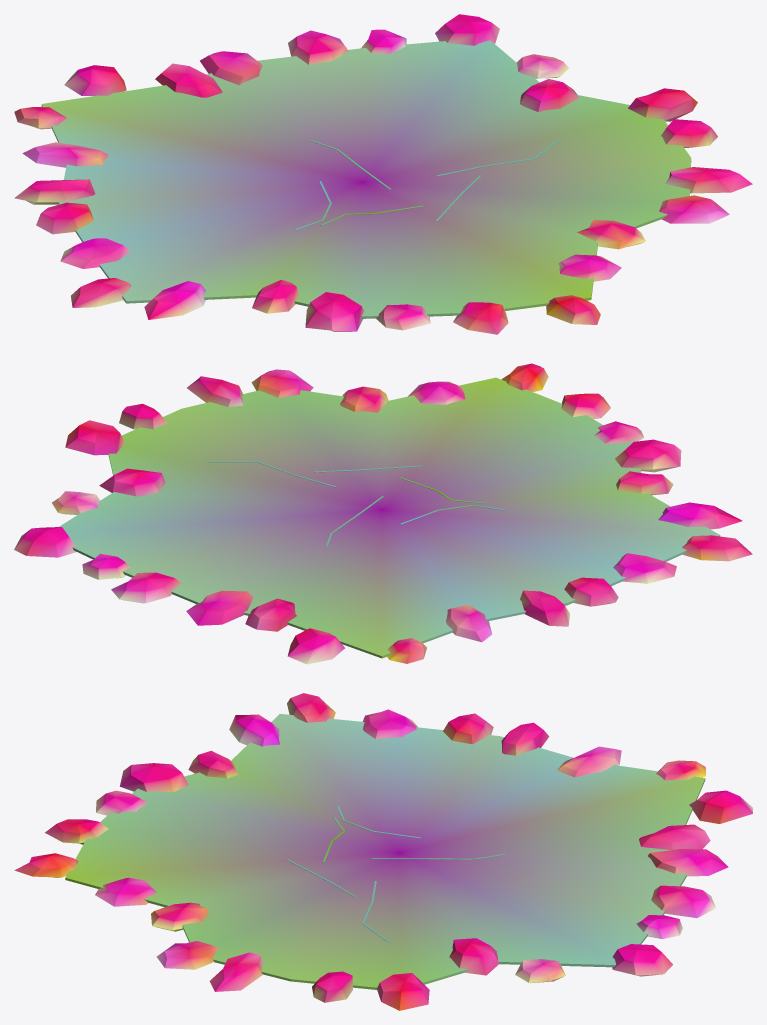
Rendered from Frozen_Lake_01.glb.
3 views of the same model, one above another, from view 1: azimuth 30°, elevation 25°; view 2: azimuth 150°, elevation 25°; view 3: azimuth 270°, elevation 25° (orthographic). The views are drawn at different scales.
Visible parts, largest first — view 1: Frozen_Lake_01; view 2: Frozen_Lake_01; view 3: Frozen_Lake_01.
Boxes of the visible parts, x1,y1,x2,y2 form: Frozen_Lake_01: [14, 14, 752, 334]; Frozen_Lake_01: [14, 363, 752, 664]; Frozen_Lake_01: [14, 693, 752, 1010].
Bounding box in the file's own units: 14.64 × 0.3864 × 14.48.
